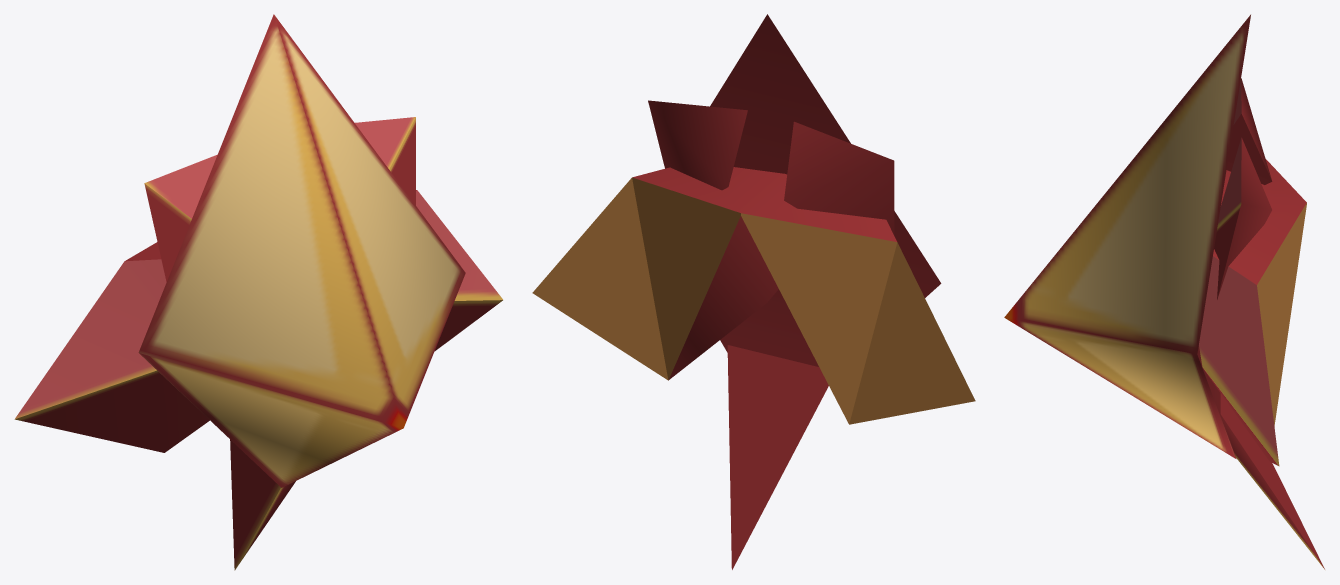
File: Jungle_Enemy.FBX
3 renders of one model, left to right at view 1: azimuth 30°, elevation 25°; view 2: azimuth 150°, elevation 25°; view 3: azimuth 270°, elevation 25°, orthographic. The views are drawn at different scales.
Visible parts, largest first — view 1: Cone001, Box001, Cone004, Cone003; view 2: Box001, Cone001, Cone004, Cone003; view 3: Cone001, Box001, Cone004, Cone003.
Boxes of the visible parts, x1,y1,x2,y2 form: Cone001: (138,14,465,487); Box001: (14,190,502,452); Cone004: (144,117,415,281); Cone003: (230,439,295,570); Box001: (532,167,975,424); Cone001: (710,14,941,366); Cone004: (648,100,894,235); Cone003: (727,345,828,569); Cone001: (1004,14,1250,458); Box001: (1199,159,1306,466); Cone004: (1214,78,1272,299); Cone003: (1220,393,1324,569).
Size of the model in its own units: 286 by 327 by 171.
